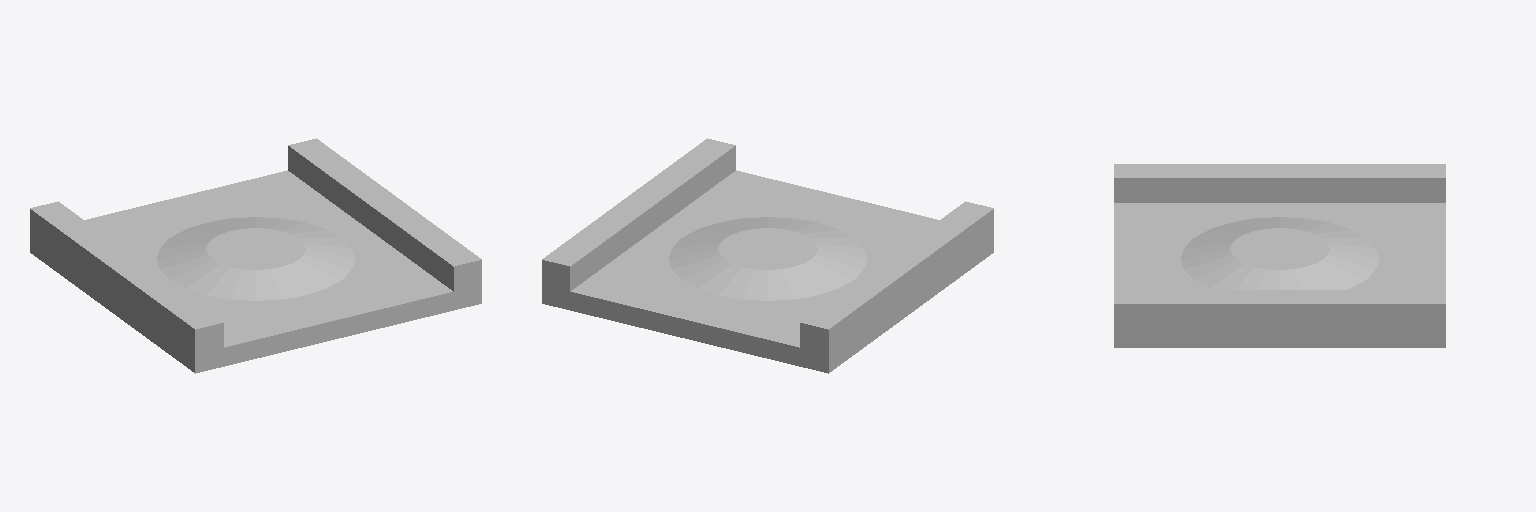
File: bumpWalls.obj
The picture shows the model from 3 angles: view 1: azimuth 30°, elevation 25°; view 2: azimuth 150°, elevation 25°; view 3: azimuth 270°, elevation 25°; orthographic projection.
Visible parts, largest first — view 1: bumpWalls; view 2: bumpWalls; view 3: bumpWalls.
Part boxes in pixels (x1,y1,x2,y2): bumpWalls: (30,138,481,373); bumpWalls: (542,138,993,373); bumpWalls: (1114,164,1445,347).
Bounding box in the file's own units: 0.9999 × 0.1467 × 0.9999.